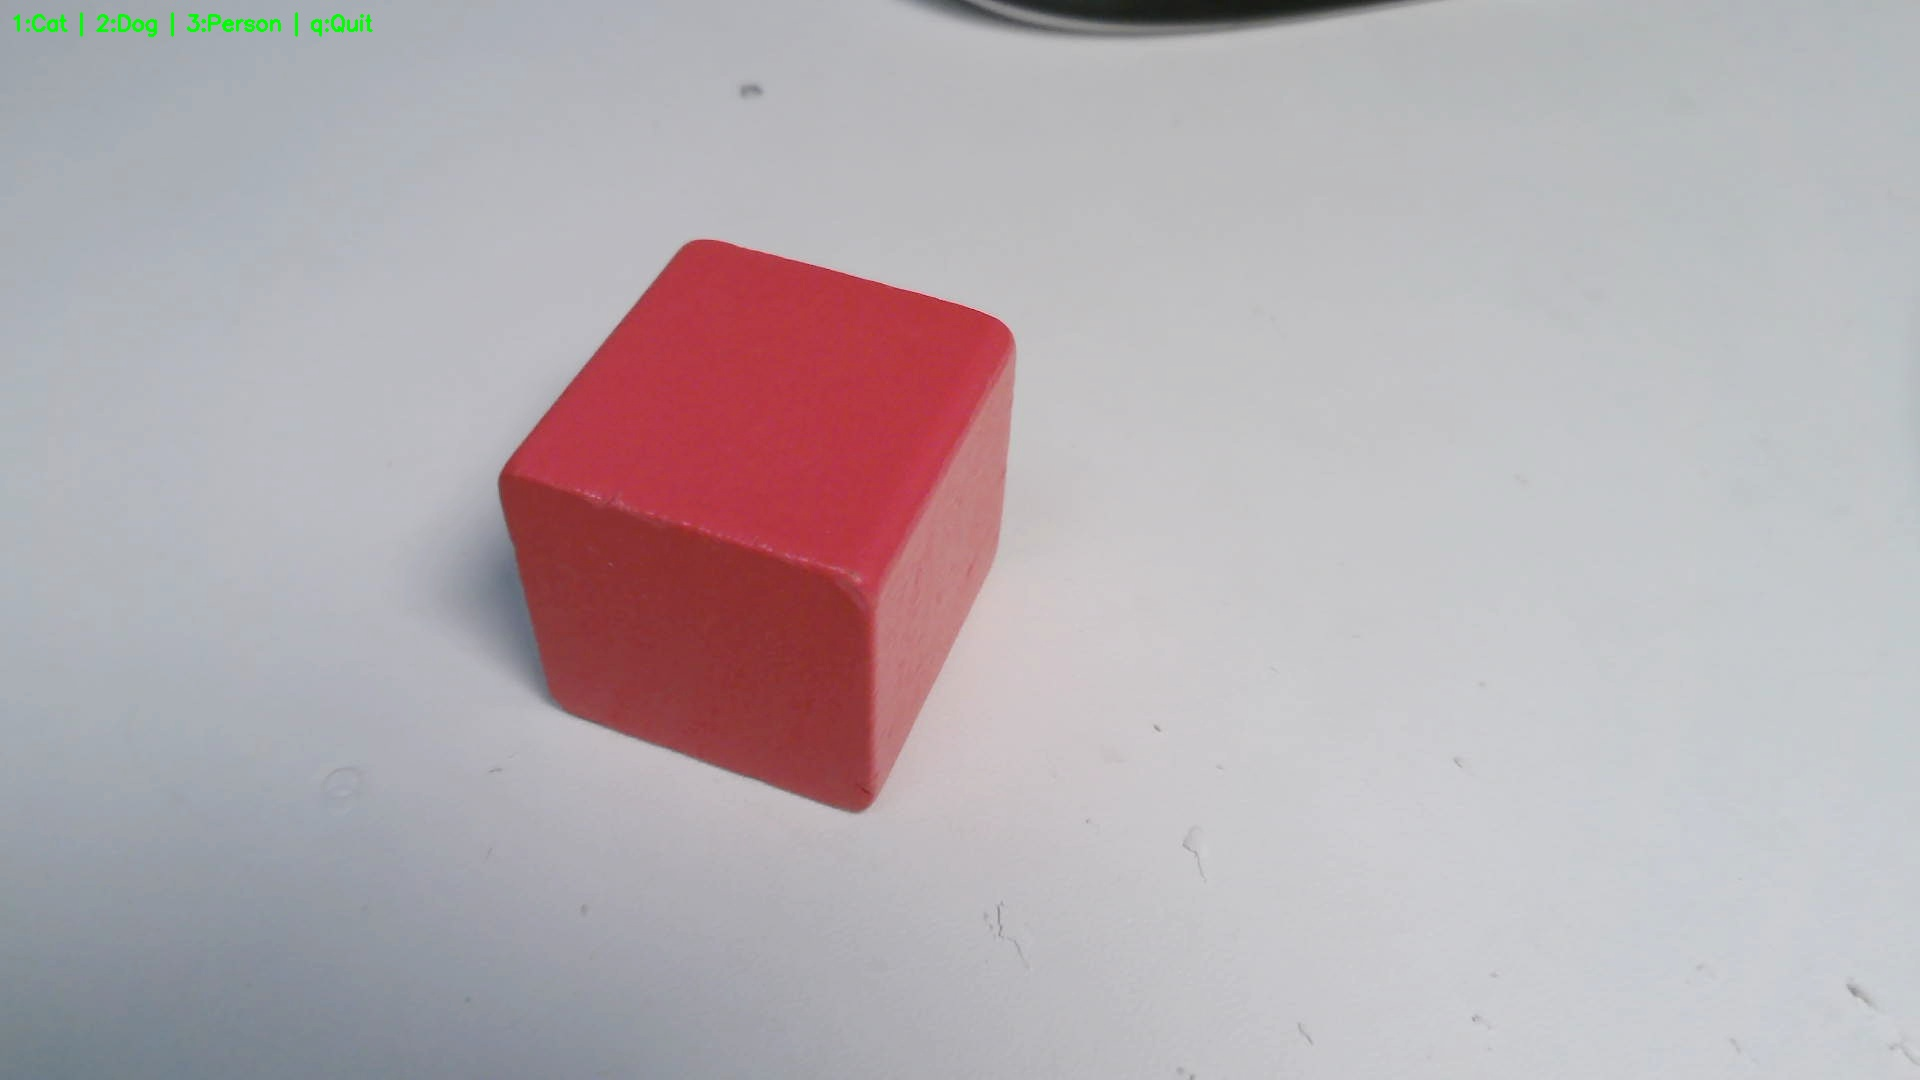red: (500, 243, 1017, 814)
